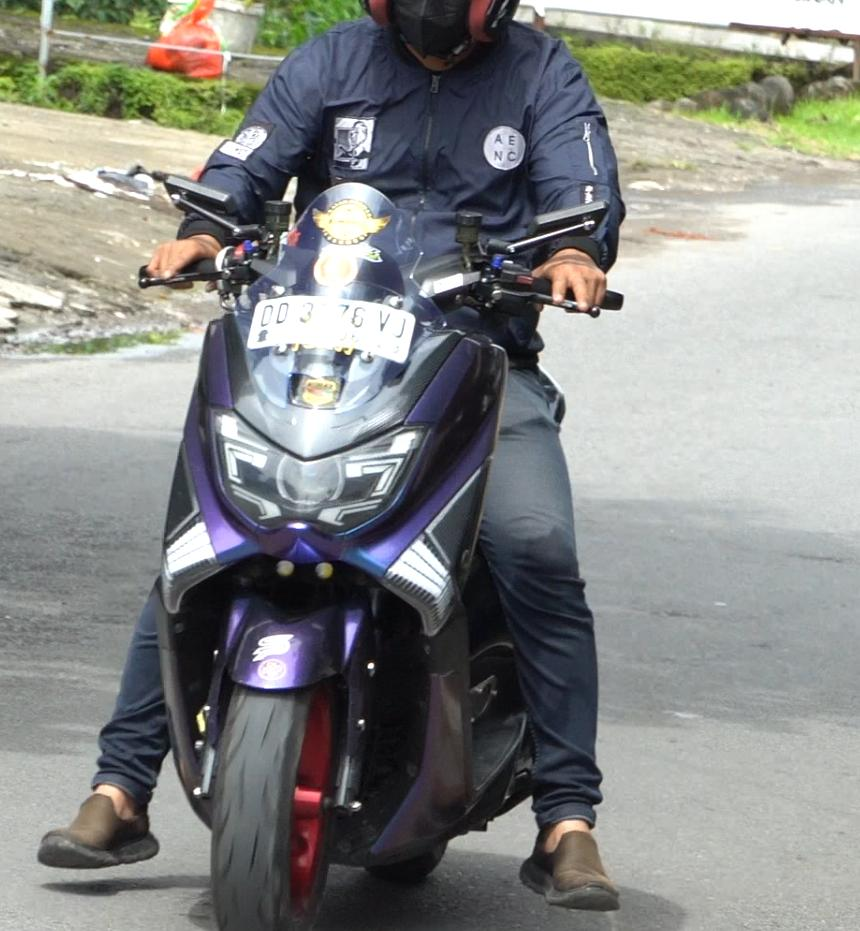number-plate: (244, 297, 416, 364)
